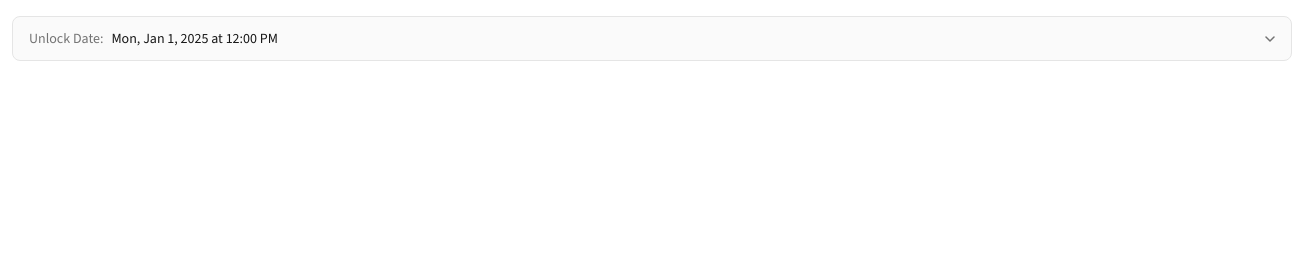
Test: CollapsibleDateControl › should display custom hint when provided and custom preset active with no date
The width and height of the screenshot is (1304, 277).
Click the button "Unlock Date: Mon, Jan 1, 2025 at 12:00 PM" at (64, 38), box [12,16,1292,61]
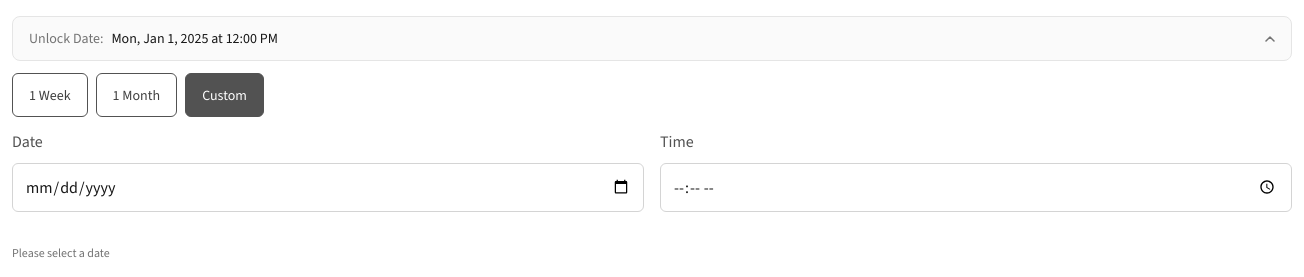
Check: the text "Please select a date" is shown, box [12,245,110,261]
